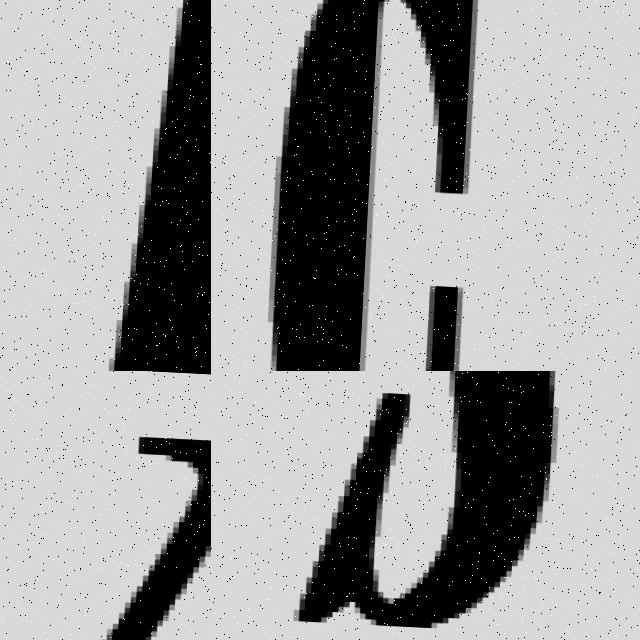C: (277, 0, 387, 371)
D: (63, 0, 211, 371)
S: (289, 371, 640, 640)
V: (0, 395, 211, 640)
